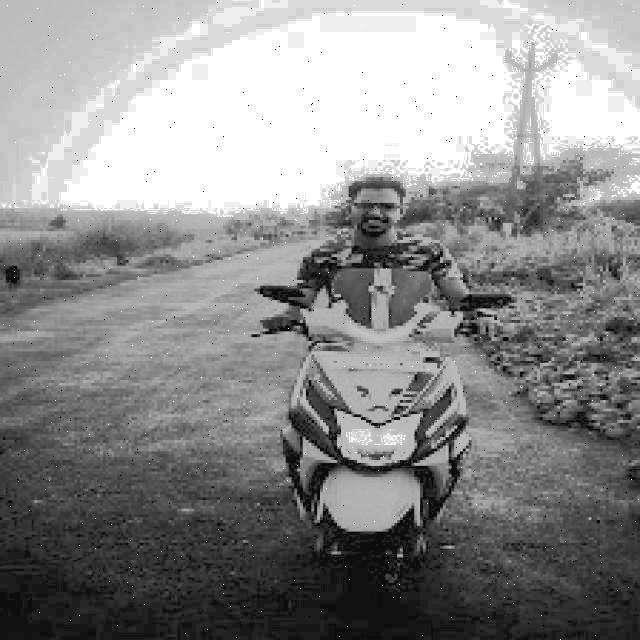Bike: (285, 278, 478, 560)
